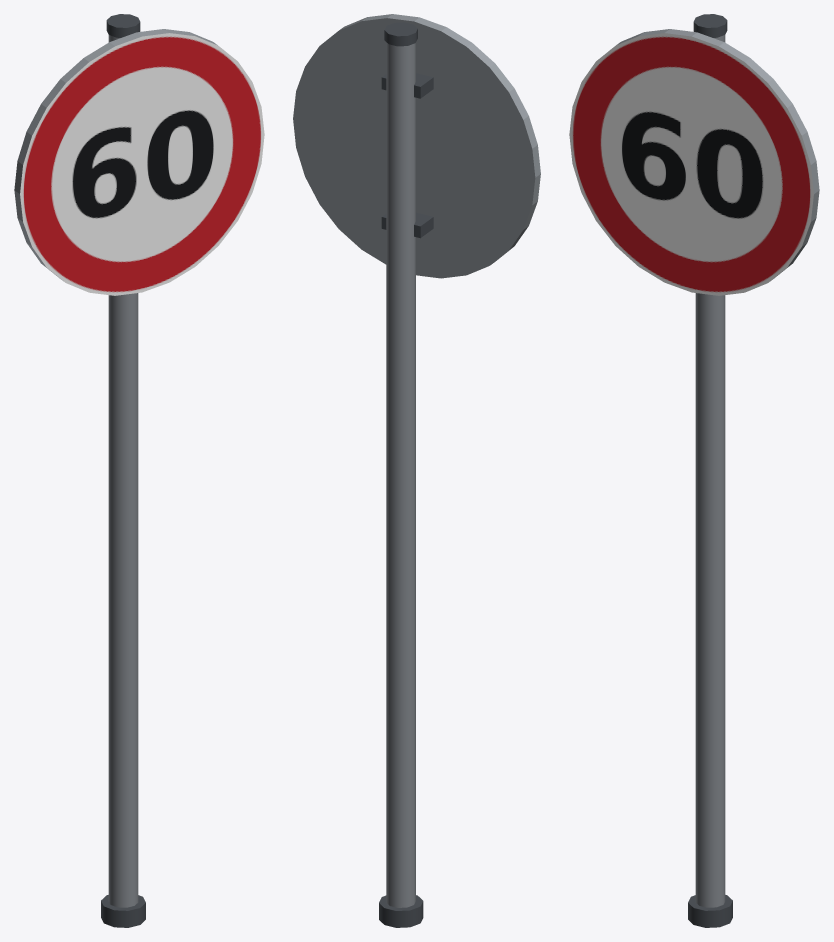
The model's file is placa-velocidade-60.glb.
The picture shows the model from 3 angles, left to right: view 1: azimuth 30°, elevation 25°; view 2: azimuth 150°, elevation 25°; view 3: azimuth 330°, elevation 25°; orthographic projection.
Visible parts, largest first — view 1: Placa, Poste; view 2: Placa, Poste, Suportes; view 3: Placa, Poste.
Boxes of the visible parts, x1,y1,x2,y2 form: Placa: (14,29,264,295); Poste: (101,14,145,927); Placa: (293,14,540,278); Poste: (379,22,423,927); Suportes: (381,73,433,238); Placa: (569,29,819,295); Poste: (688,14,732,927).
Bounding box in the file's own units: 0.75 × 2.63 × 0.1571.
4 materials, 1 textured.
